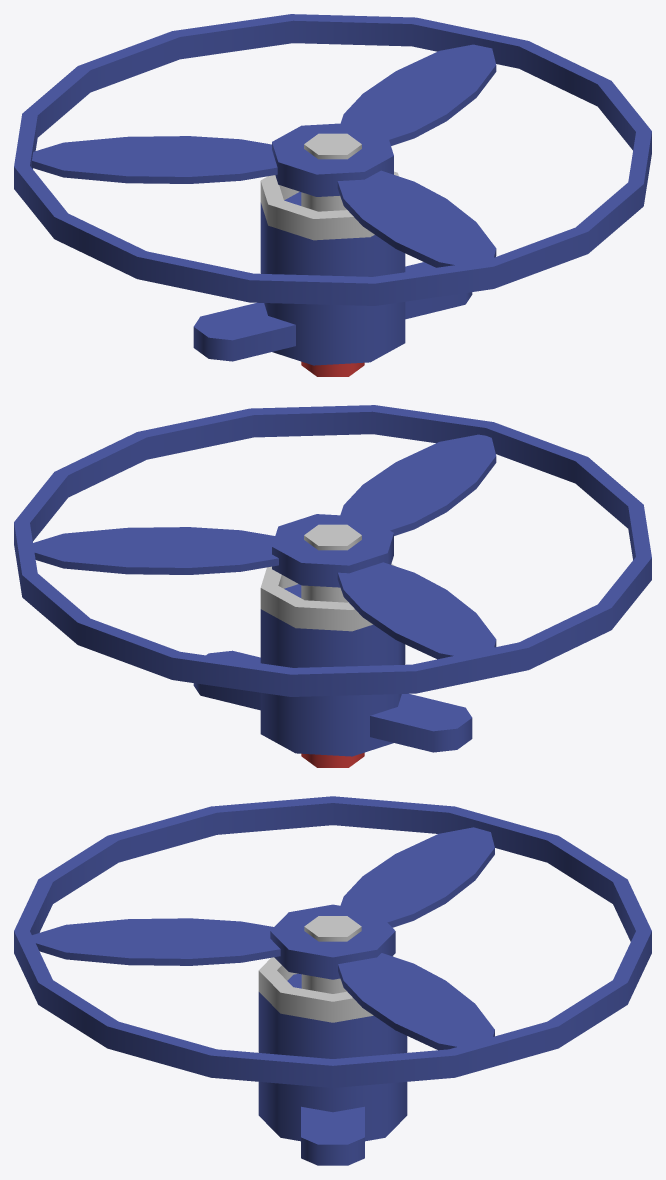
File: SpinnerDisc_01.fbx
The picture shows the model from 3 angles, top to bottom: view 1: azimuth 30°, elevation 25°; view 2: azimuth 150°, elevation 25°; view 3: azimuth 270°, elevation 25°; orthographic projection.
Parts seen in each view (by area): view 1: SpinnerDisc_01_Disc, SpinnerDisc_01, SpinnerDisc_01_Button; view 2: SpinnerDisc_01_Disc, SpinnerDisc_01, SpinnerDisc_01_Button; view 3: SpinnerDisc_01_Disc, SpinnerDisc_01.
Boxes of the visible parts, <box> form: SpinnerDisc_01_Disc: <box>14,14,651,305</box>; SpinnerDisc_01: <box>193,171,472,365</box>; SpinnerDisc_01_Button: <box>301,361,364,376</box>; SpinnerDisc_01_Disc: <box>14,405,651,696</box>; SpinnerDisc_01: <box>193,564,472,756</box>; SpinnerDisc_01_Button: <box>301,752,364,767</box>; SpinnerDisc_01_Disc: <box>14,796,651,1087</box>; SpinnerDisc_01: <box>258,956,407,1165</box>.
Size of the model in its own units: 0.3014 by 0.1142 by 0.3014.
